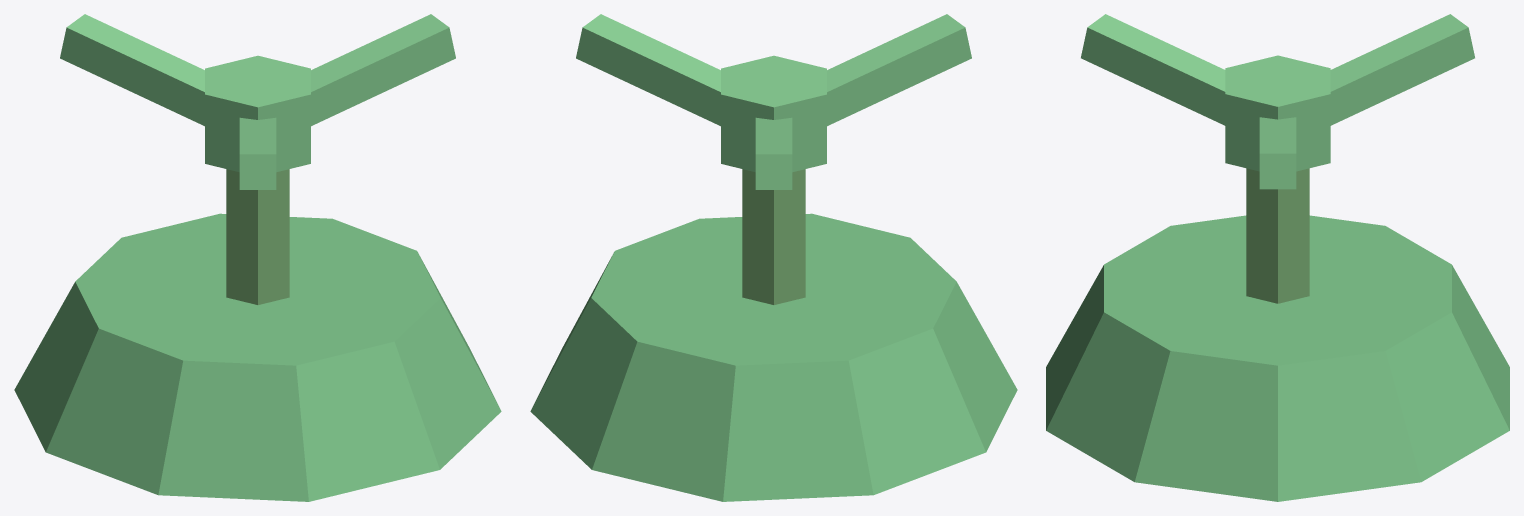
Rendered from sprinkler.glb.
3 renders of one model, left to right at view 1: azimuth 30°, elevation 25°; view 2: azimuth 150°, elevation 25°; view 3: azimuth 270°, elevation 25°, orthographic.
Bounding box in the file's own units: 0.16 × 0.1209 × 0.1522.
